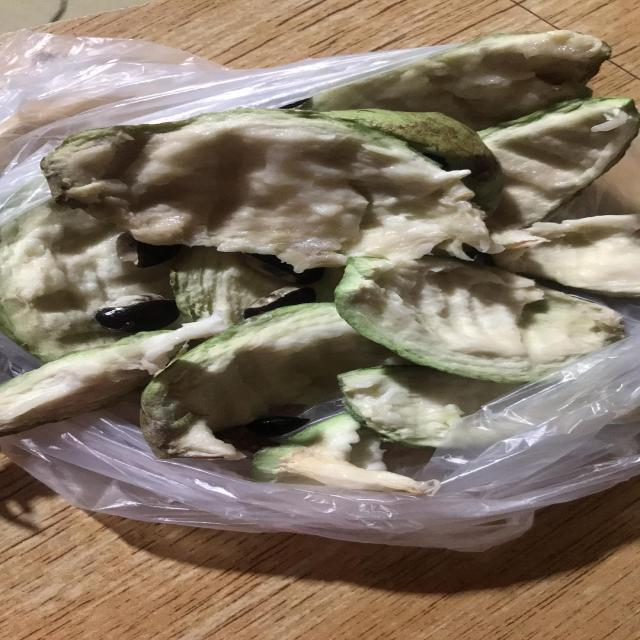Wet: (39, 107, 509, 274), (333, 258, 630, 385), (141, 292, 399, 428), (253, 422, 443, 506)
